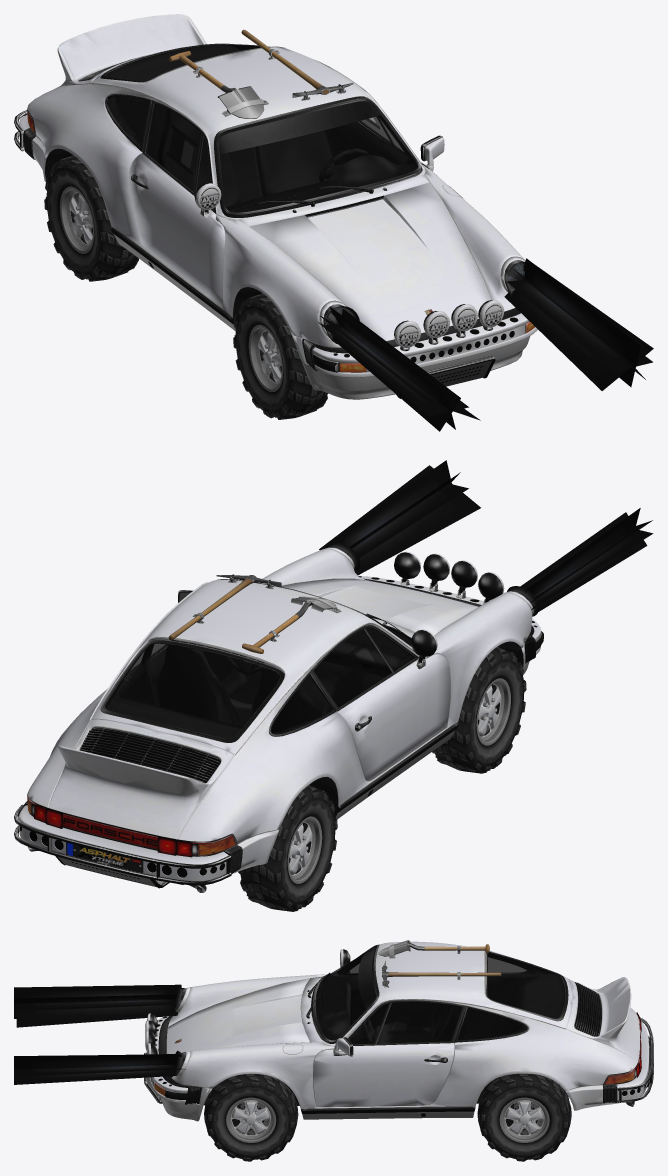
3 renders of one model, top to bottom at view 1: azimuth 30°, elevation 25°; view 2: azimuth 150°, elevation 25°; view 3: azimuth 270°, elevation 25°, orthographic. The views are drawn at different scales.
Visible parts, largest first — view 1: chassis_Carpaint_Material.001_0, bone_caliper_BL_Diffuse_Material.002_0, glasses_pivot_glass__0, lights_brakes_glows_Material.006_0, wheel_BL_tyres_Material.004_0; view 2: chassis_Carpaint_Material.001_0, bone_caliper_BL_Diffuse_Material.002_0, glasses_pivot_glass__0, lights_brakes_glows_Material.006_0, wheel_BL_tyres_Material.004_0, chassis_licenseplate_Material.003_0; view 3: chassis_Carpaint_Material.001_0, bone_caliper_BL_Diffuse_Material.002_0, glasses_pivot_glass__0, lights_brakes_glows_Material.006_0, wheel_BL_tyres_Material.004_0.
Boxes of the visible parts, x1,y1,x2,y2 form: chassis_Carpaint_Material.001_0: (19,14,537,399); bone_caliper_BL_Diffuse_Material.002_0: (14,29,534,398); glasses_pivot_glass__0: (105,44,524,333); lights_brakes_glows_Material.006_0: (318,258,653,431); wheel_BL_tyres_Material.004_0: (44,155,328,419); chassis_Carpaint_Material.001_0: (19,547,541,881); bone_caliper_BL_Diffuse_Material.002_0: (14,552,543,892); glasses_pivot_glass__0: (105,547,533,738); lights_brakes_glows_Material.006_0: (31,460,653,857); wheel_BL_tyres_Material.004_0: (238,646,526,911); chassis_licenseplate_Material.003_0: (66,842,143,872); chassis_Carpaint_Material.001_0: (145,941,649,1121); bone_caliper_BL_Diffuse_Material.002_0: (144,940,653,1142); glasses_pivot_glass__0: (175,953,564,1073); lights_brakes_glows_Material.006_0: (14,984,641,1084); wheel_BL_tyres_Material.004_0: (204,1073,571,1161).
Bounding box in the file's own units: 1.75 × 1.52 × 5.29.
Materials: 7 (6 with a texture image).
